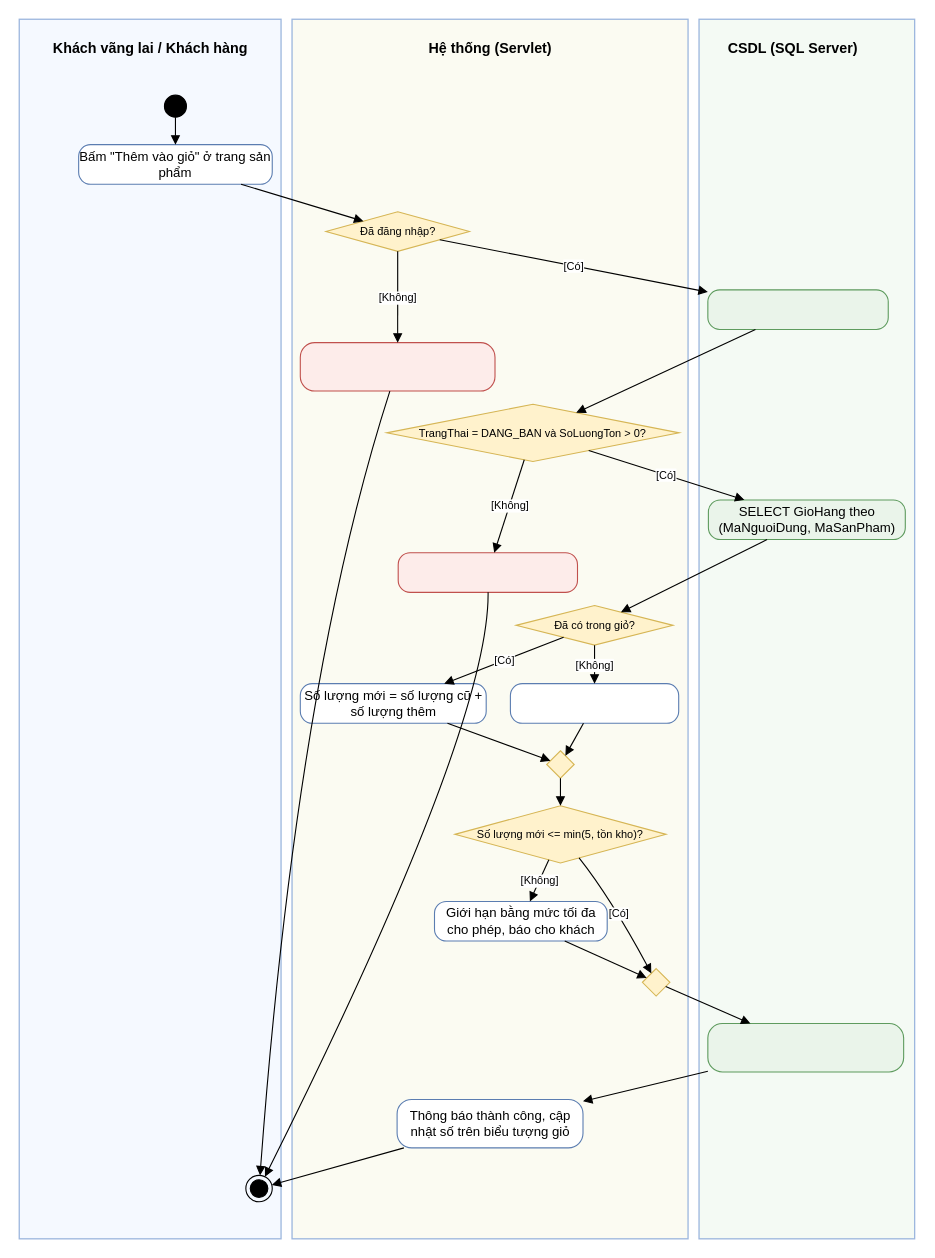
Some shapes in this 935 by 1258 pixel diagram are drawn without their labels. The centre of each missing label's shape, as x and y in pixels:
Báo "Sản phẩm không còn bán / hết hàng": pixel 487 572
Lưu URL hiện tại, chuyển trang Đăng nhập (đăng nhập xong quay lại): pixel 397 366
SELECT TrangThai, SoLuongTon của sản phẩm: pixel 797 309
Số lượng mới = số lượng thêm: pixel 594 703
UPDATE GioHang SET SoLuong, NgayCapNhat hoặc INSERT GioHang: pixel 805 1047
